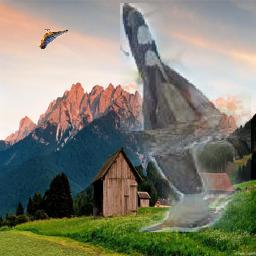Cuckoo: (121, 4, 252, 233)
Swallow: (38, 27, 68, 49)
